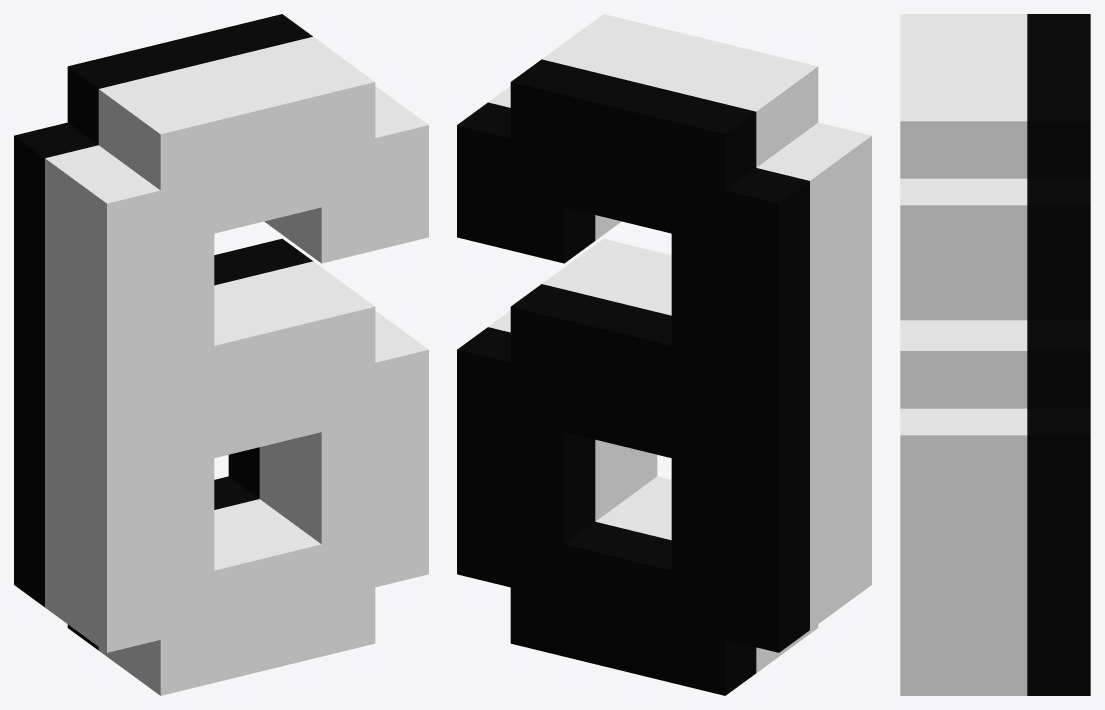
The picture shows the model from 3 angles, left to right: view 1: azimuth 30°, elevation 25°; view 2: azimuth 150°, elevation 25°; view 3: azimuth 270°, elevation 25°; orthographic projection. The views are drawn at different scales.
Visible parts, largest first — view 1: Untitled; view 2: Untitled; view 3: Untitled.
Boxes of the visible parts, box(x1,y1,x2,y2) form: Untitled: box(14, 14, 428, 695); Untitled: box(457, 14, 871, 695); Untitled: box(900, 14, 1090, 695).
Bounding box in the file's own units: 0.6 × 1 × 0.3.
1 material, 1 textured.
